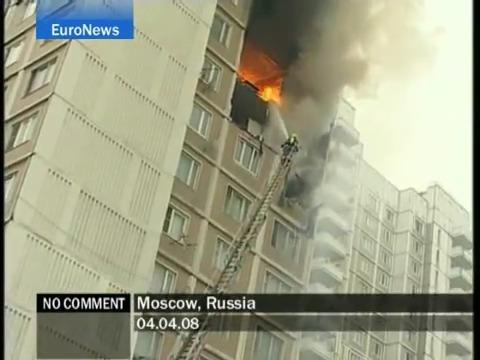fire: (254, 70, 286, 108)
